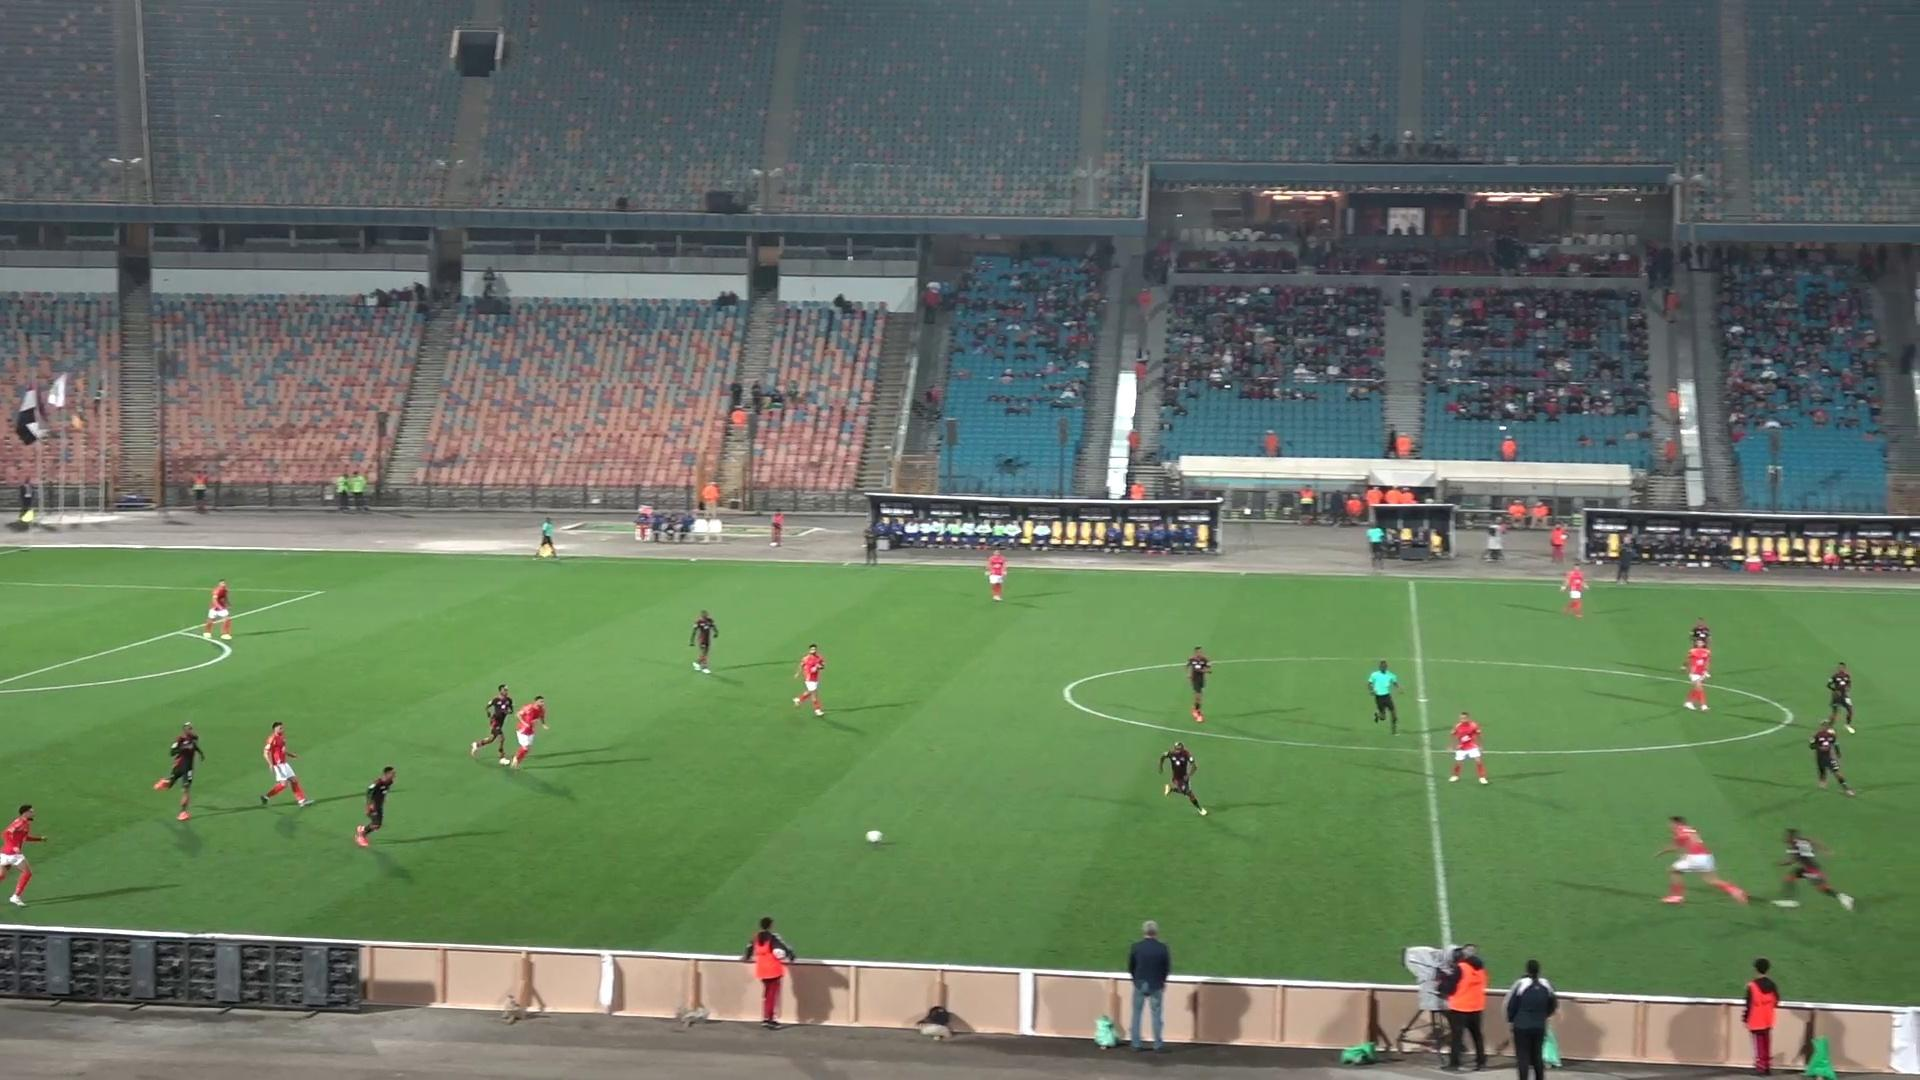Ball: (862, 828, 891, 848)
Refree: (1366, 661, 1399, 733), (531, 520, 558, 558)
Team1: (1662, 816, 1749, 903), (0, 803, 44, 906), (262, 723, 311, 806), (498, 698, 546, 767), (1448, 712, 1487, 785), (793, 645, 825, 716), (1683, 630, 1712, 709), (200, 579, 233, 640), (1561, 564, 1589, 617), (984, 549, 1007, 601)
Team2: (1770, 828, 1853, 909), (152, 723, 203, 822), (1808, 719, 1855, 795), (1158, 741, 1207, 815), (468, 684, 516, 760), (353, 766, 396, 847), (1824, 662, 1853, 731), (1185, 647, 1212, 723), (690, 611, 719, 673)
